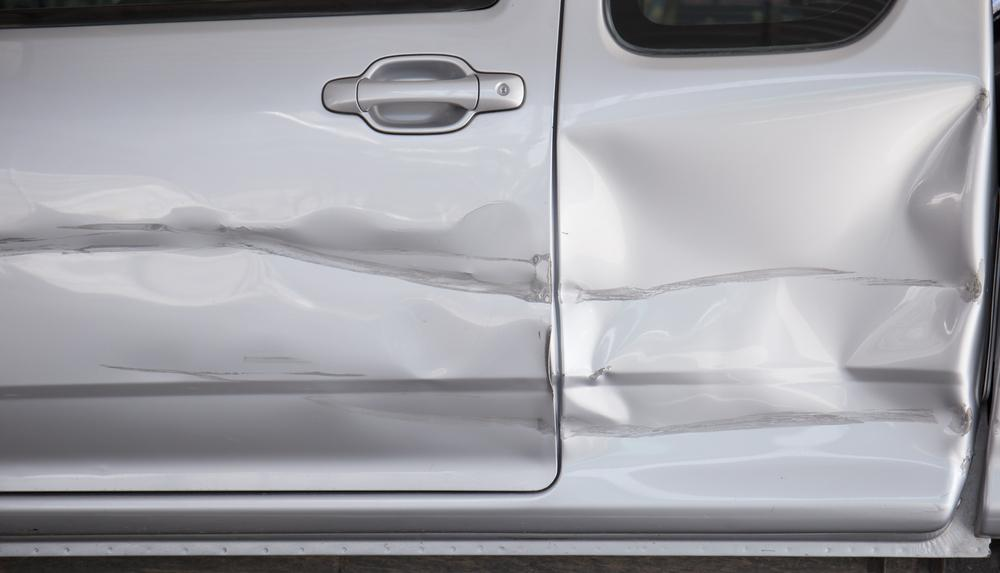dent: (557, 95, 990, 511), (0, 172, 554, 374)
scratch: (93, 351, 552, 434)
